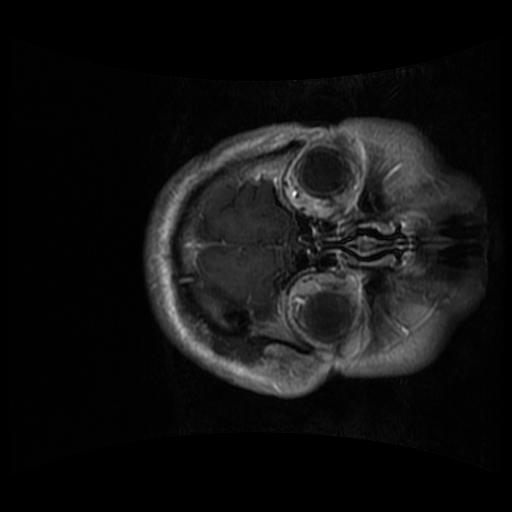glioma: (222, 294, 254, 336)
